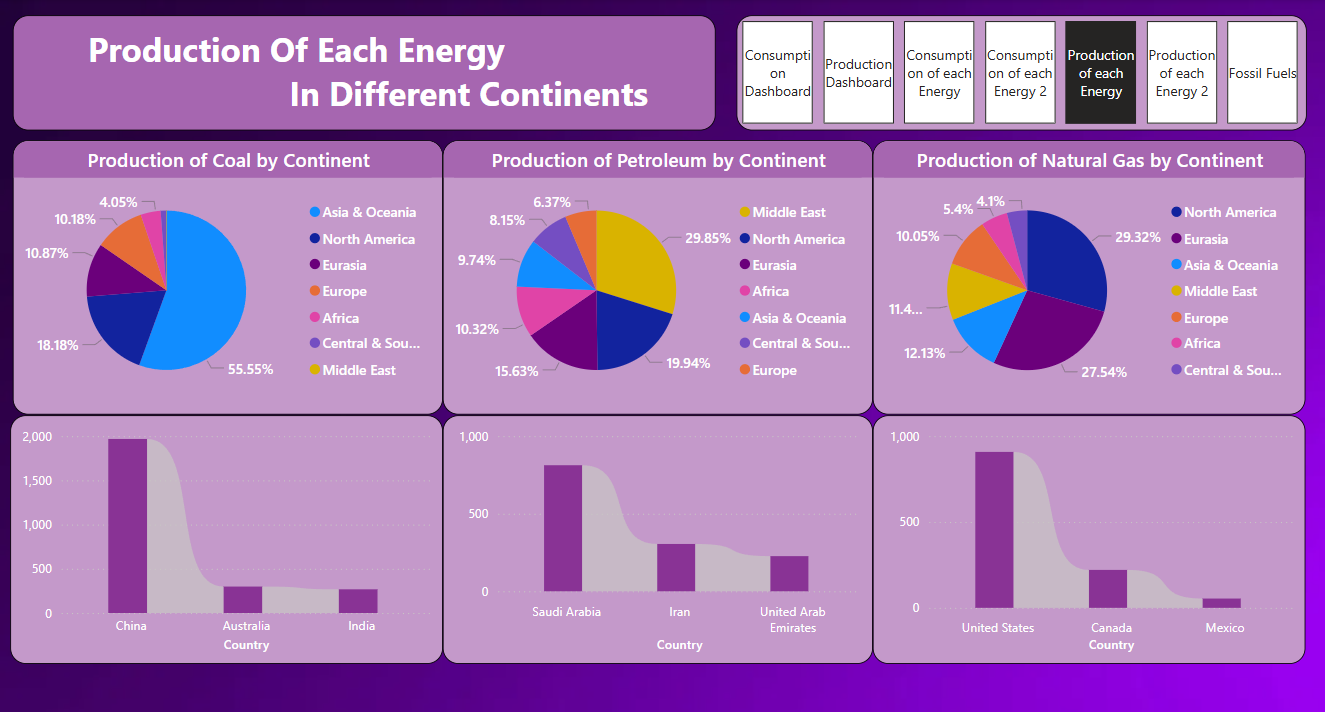

The dashboard page shown, as its layout file describes it:
{"tool":"powerbi","page":{"name":"Production of each Energy","canvas":[1280,720],"ordinal":4},"visuals":[{"type":"pieChart","title":"Production of Petroleum by Continent","fields":{"Category":["Consumption_Coal.Continent"],"Y":["Sum(Production_Pertroleum.Production_Petrolium)"]},"box":[428.8,136.2,415,265],"z":0},{"type":"pieChart","title":"Production of Coal by Continent","fields":{"Category":["Consumption_Coal.Continent"],"Y":["Sum(Production_Coal.Production_Coal)"]},"box":[13.8,136.2,415,265],"z":1000},{"type":"pieChart","title":"Production of Natural Gas by Continent","fields":{"Category":["Consumption_Coal.Continent"],"Y":["Sum(Production_NaturalGas.Production_NaturalGas)"]},"box":[843.8,136.2,417.5,265],"z":2000},{"type":"ribbonChart","title":"Total Consumption by Country","fields":{"Category":["Consumption_NaturalGas.Country"],"Y":["Sum(Production_Pertroleum.Production_Petrolium)"]},"box":[428.8,401.2,415,240],"z":3000},{"type":"ribbonChart","title":"Total Consumption by Country","fields":{"Category":["Consumption_NaturalGas.Country"],"Y":["Sum(Production_Coal.Production_Coal)"]},"box":[11.2,401.2,417.5,240],"z":4000},{"type":"ribbonChart","title":"Total Consumption by Country","fields":{"Category":["Consumption_NaturalGas.Country"],"Y":["Sum(Production_NaturalGas.Production_NaturalGas)"]},"box":[843.8,401.2,417.5,240],"z":5000},{"type":"textbox","box":[13.8,16.2,678.8,111.2],"z":6000},{"type":"pageNavigator","box":[711.2,16.2,550,111.2],"z":7000}]}

Visuals, with their boxes on the page's 1280x720 design canvas (x1, y1, x2, y2). These are canvas units, not pixel positions in the 1325x712 screenshot, which may show the page scaled, cropped or inside an application window:
"Production of Petroleum by Continent" pieChart: BBox(429, 136, 844, 401)
"Production of Coal by Continent" pieChart: BBox(14, 136, 429, 401)
"Production of Natural Gas by Continent" pieChart: BBox(844, 136, 1261, 401)
"Total Consumption by Country" ribbonChart: BBox(429, 401, 844, 641)
"Total Consumption by Country" ribbonChart: BBox(11, 401, 429, 641)
"Total Consumption by Country" ribbonChart: BBox(844, 401, 1261, 641)
textbox: BBox(14, 16, 693, 127)
pageNavigator: BBox(711, 16, 1261, 127)
